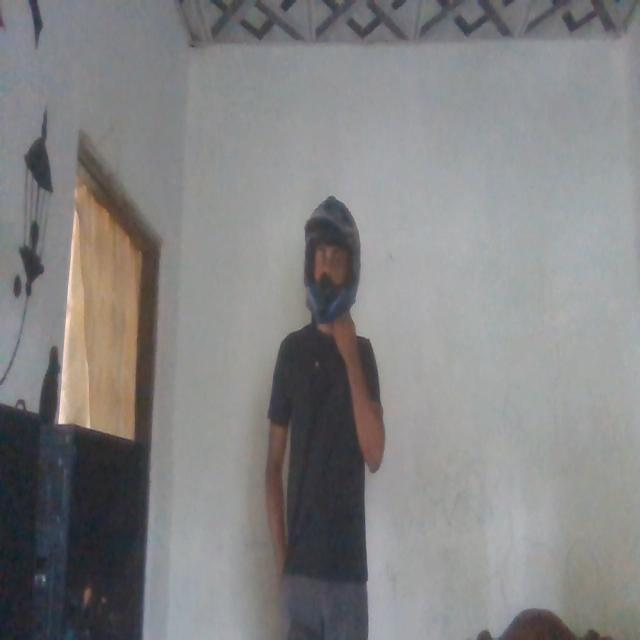Helmet_Wearer: (291, 189, 369, 335)
Person: (265, 189, 390, 640)
